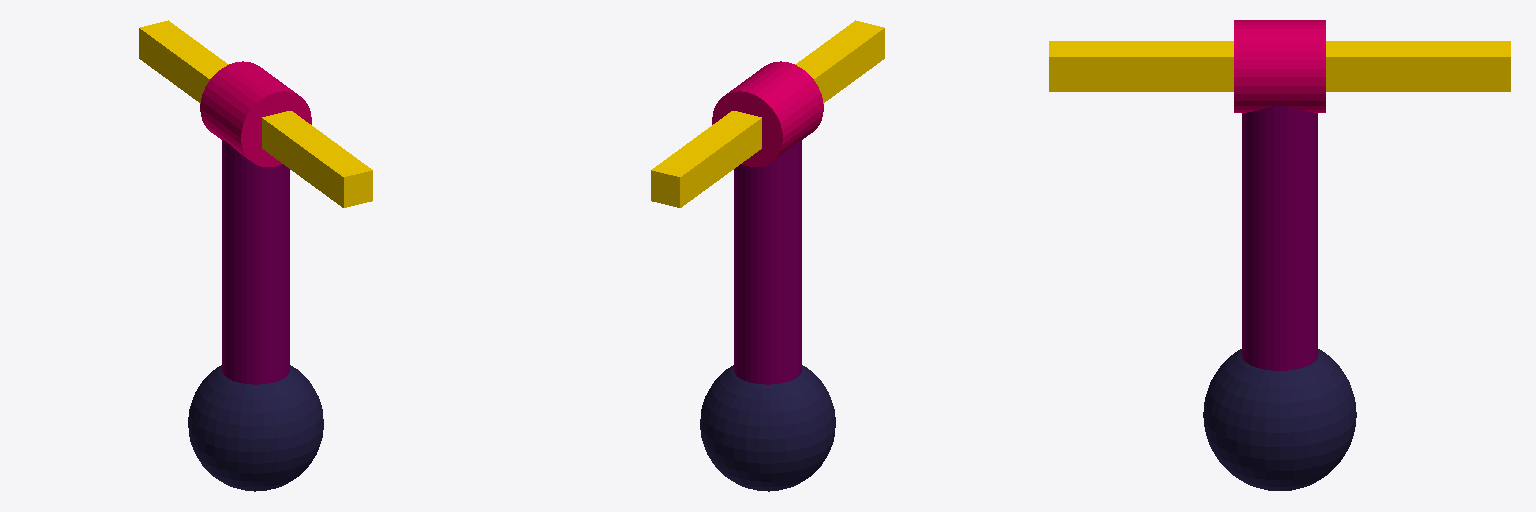
robot.urdf — robot:
<?xml version="1.0"?>
<robot name="robot">
   
    <link name="base_link">
        <visual>
            <geometry>
                <sphere radius="0.5"/>
            </geometry>
            <origin rpy="0 0 0" xyz="0 0 0"/>
            <material name="blue"/>
        </visual>
    </link>
    
    <joint name="shoulder" type="revolute">
        <parent link="base_link"/>
        <child link="humerus"/>
        <origin rpy="0 0 0" xyz="0 0 0"/>
        <axis xyz="1 0 0"/>
        <limit effort="1000.0" lower="-3.14" upper="3.14" velocity="0.5"/>
    </joint>
    
    <link name="humerus">
        <visual>
            <geometry>
                <cylinder length="2.5" radius="0.25"/>
            </geometry>
            <origin rpy="0 0 0" xyz="0 0 1.25"/>
            <material name="purple"/>
        </visual>
    </link>
    
    <joint name="elbow" type="revolute">
        <parent link="humerus"/>
        <child link="ulna"/>
        <origin rpy="0 0 0" xyz="0 0 0"/>
        <axis xyz="0 0 1"/>
        <limit effort="1000.0" lower="-3.14" upper="3.14" velocity="0.5"/>
    </joint>
    
    <link name="ulna">
        <visual>
            <geometry>
                <cylinder length="0.6" radius="0.3"/>
            </geometry>
            <origin rpy="1.570796 0 0" xyz="0 0 2.5"/>
            <material name="pink"/>
        </visual>
    </link>
    
    <joint name="wrist" type="prismatic">
        <parent link="ulna"/>
        <child link="ossa"/>
        <origin rpy="0 0 0" xyz="0 0 0"/>
        <axis xyz="0 1 0"/>
        <limit effort="1000.0" lower="-1.5" upper="1.5" velocity="0.5"/>
    </joint>
    
    <link name="ossa">
        <visual>
            <geometry>
                <box size="0.25 3 0.25"/>
            </geometry>
            <origin rpy="0 0 0" xyz="0 0 2.5"/>
            <material name="yellow"/>
        </visual>
    </link>
    
    <material name="yellow">
        <color rgba="1 0.83 0 1"/>
    </material>
    
    <material name="blue">
        <color rgba="0.18 0.16 0.31 1"/>
    </material>
    
    <material name="pink">
        <color rgba="0.85 0.01 0.41 1"/>
    </material>
    
    <material name="purple">
        <color rgba="0.51 0.01 0.39 1"/>
    </material>
</robot>

--- Facts derived from the render (not from the file) ---
Views: 3 orthographic renders of the robot side by side, from view 1: azimuth 30°, elevation 25°; view 2: azimuth 150°, elevation 25°; view 3: azimuth 270°, elevation 25°.
Robot: robot — 4 links, 3 joints (2 revolute, 1 prismatic); root link base_link; default pose: all joints at 0.
Visible links, largest first — view 1: humerus, base_link, ossa, ulna; view 2: humerus, base_link, ossa, ulna; view 3: humerus, ossa, base_link, ulna.
Link boxes in pixels (x1,y1,x2,y2): humerus: (222, 140, 289, 384); base_link: (188, 365, 323, 491); ossa: (139, 20, 372, 207); ulna: (200, 61, 311, 166); humerus: (734, 140, 801, 384); base_link: (700, 365, 835, 491); ossa: (651, 20, 884, 207); ulna: (712, 61, 823, 166); humerus: (1242, 106, 1317, 370); ossa: (1049, 41, 1510, 91); base_link: (1203, 349, 1356, 490); ulna: (1234, 20, 1325, 112).
Size in the robot's own frame: 1 by 3 by 3.3 metres.
Geometry: primitives only (box / cylinder / sphere), no mesh files.